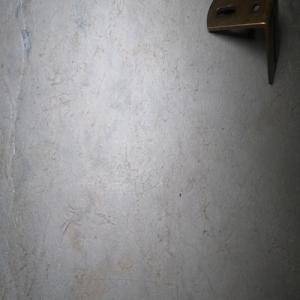MetalPart: (205, 0, 281, 86)
